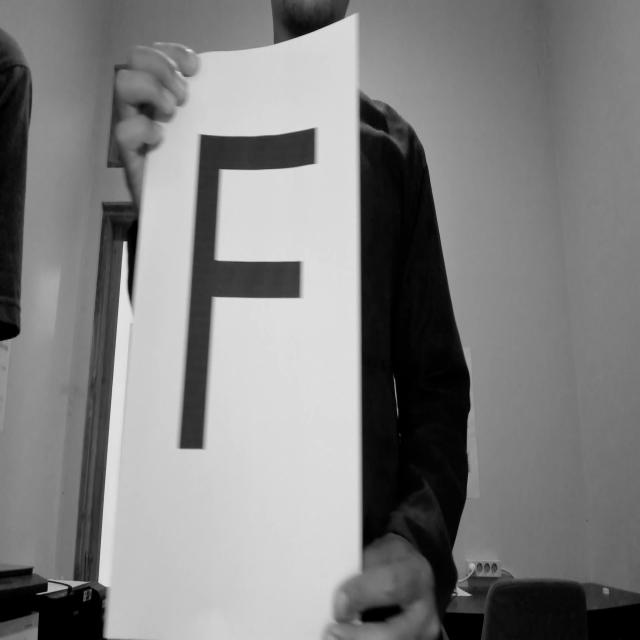f: (172, 109, 342, 487)
